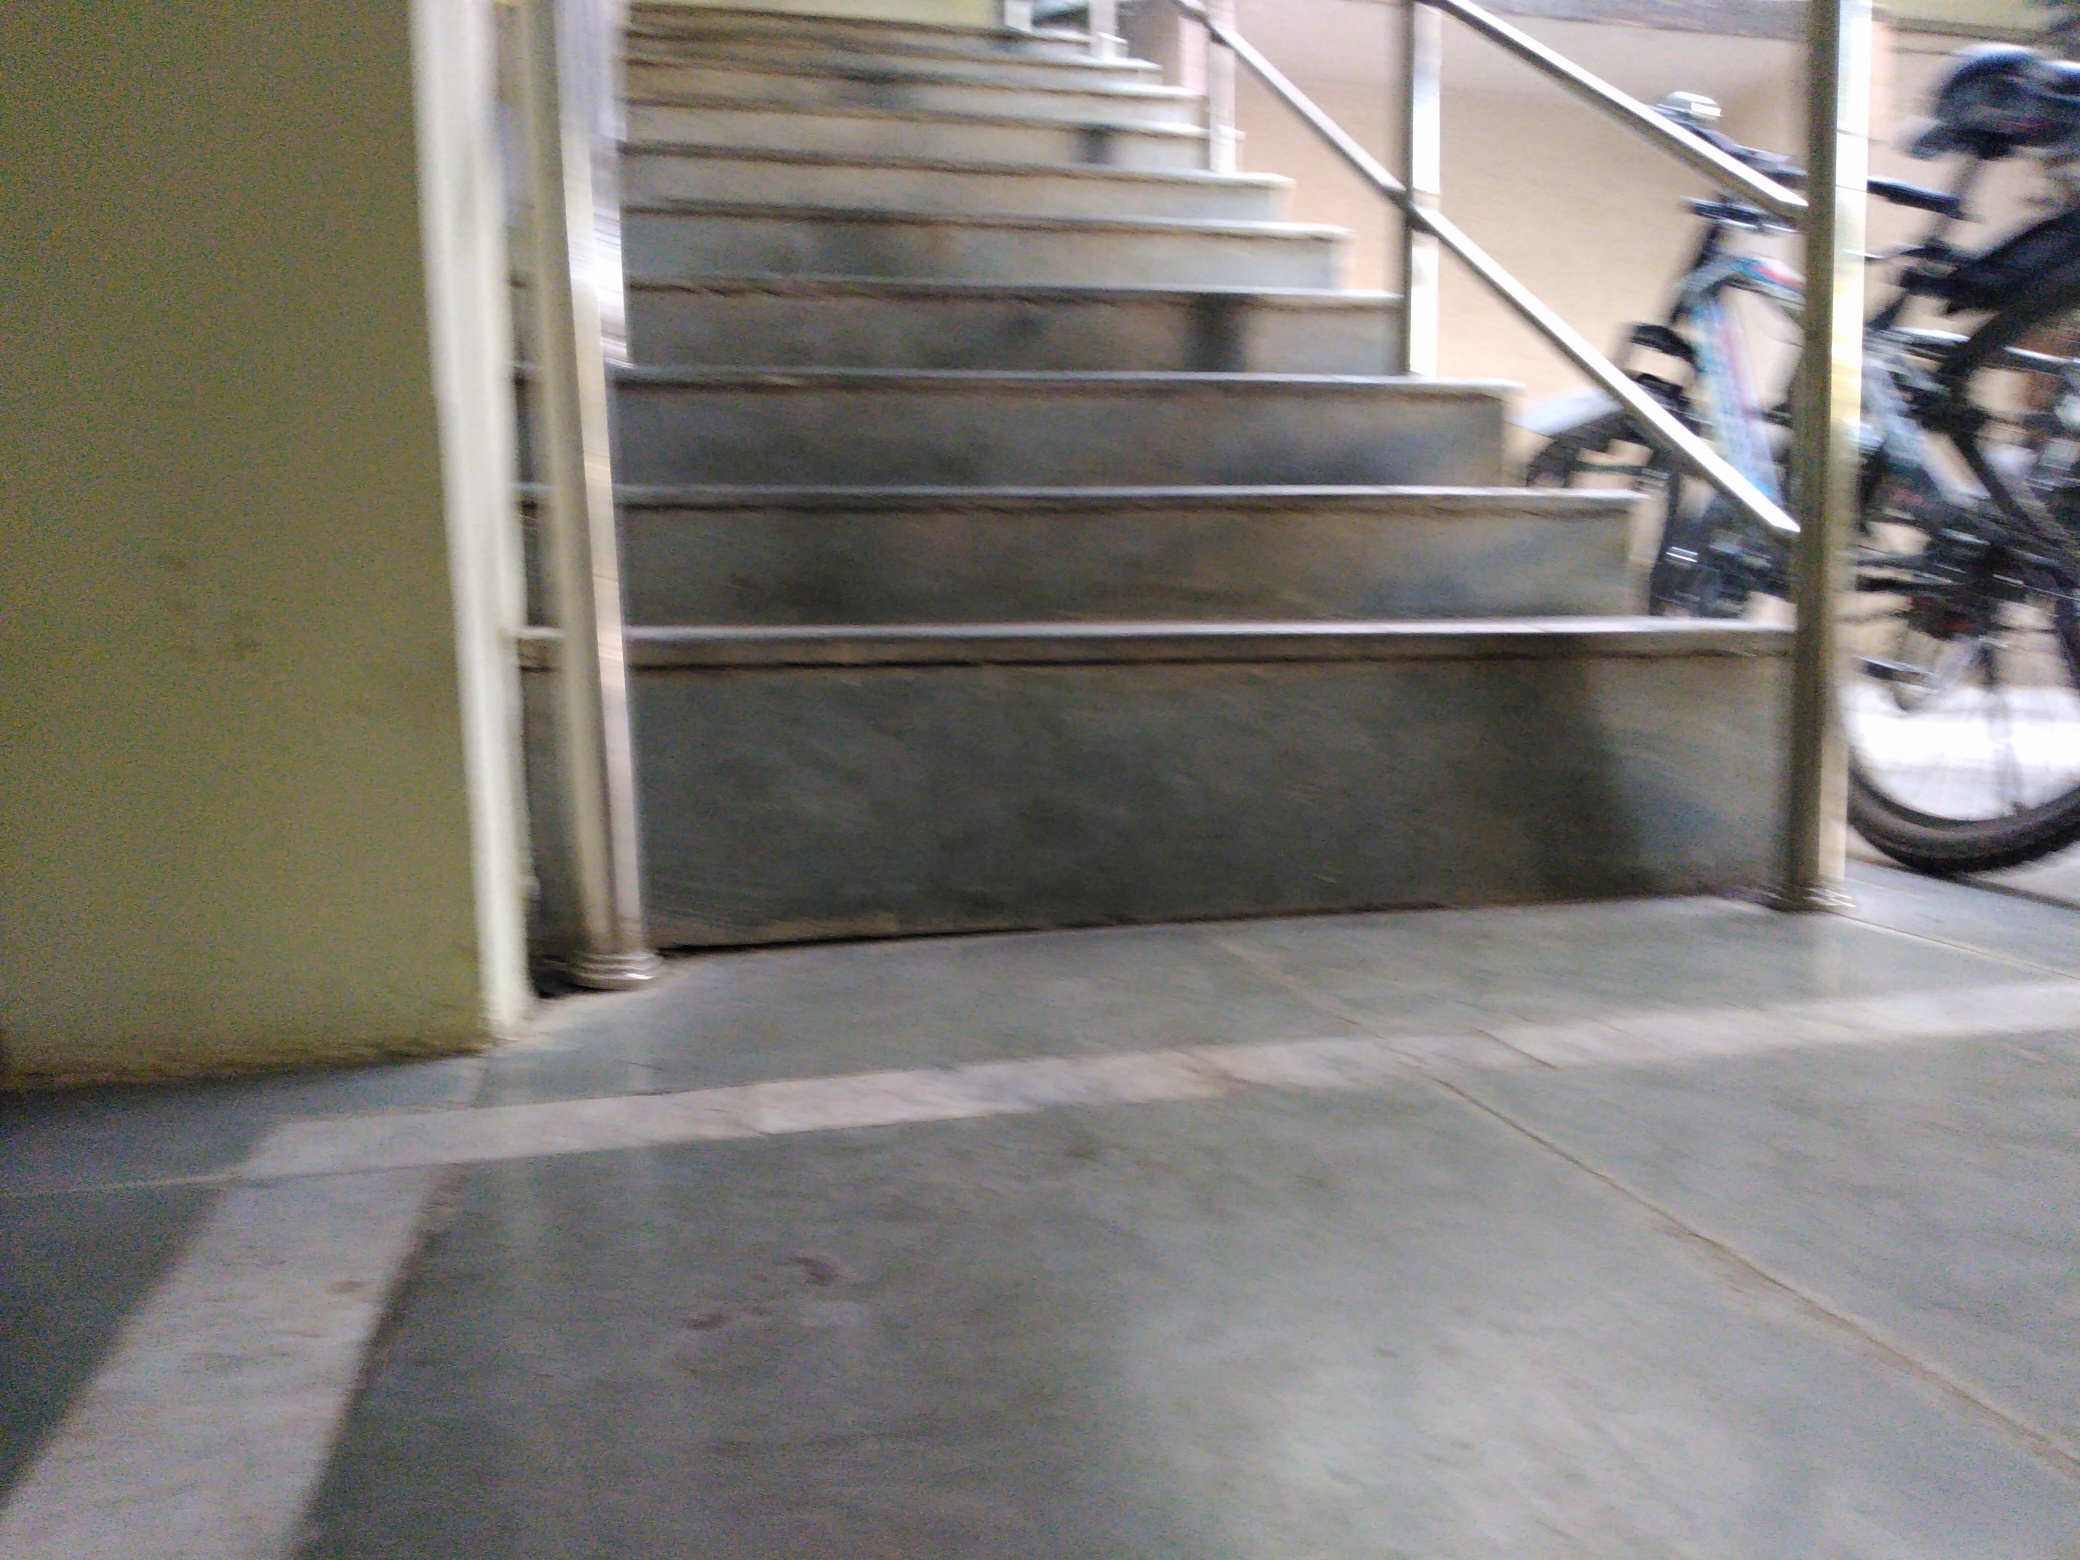stairs_up: (613, 11, 1751, 942)
